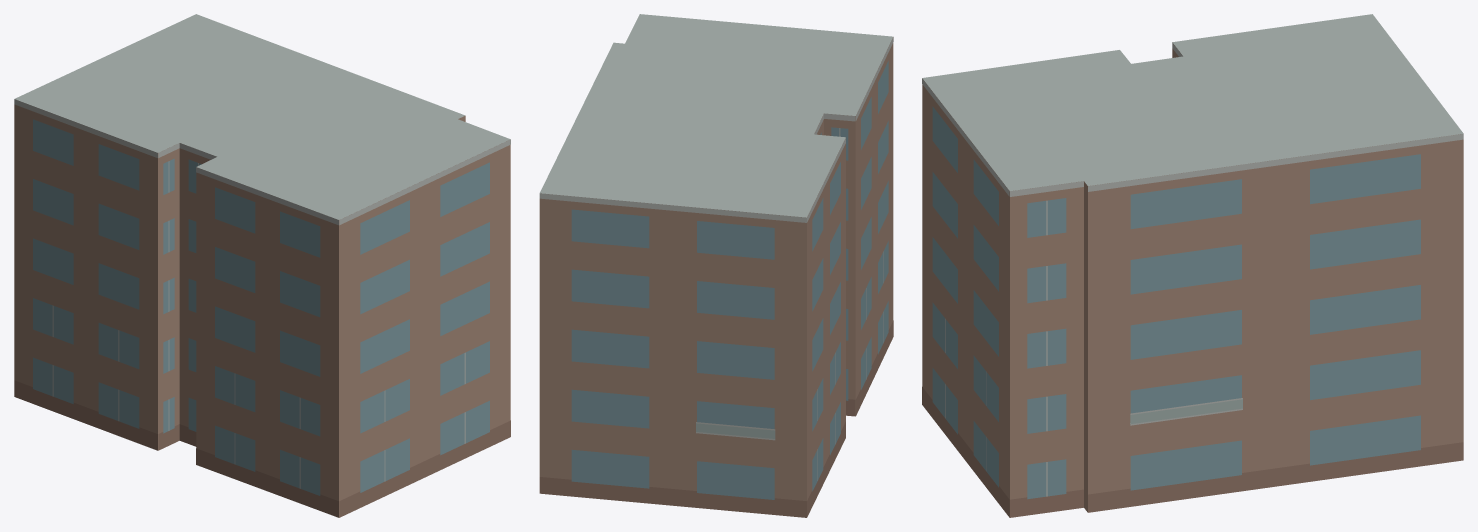
Rendered from survey-upis-32663820.glb.
3 views of the same model, side by side, from view 1: azimuth 30°, elevation 25°; view 2: azimuth 150°, elevation 25°; view 3: azimuth 270°, elevation 25° (orthographic). The views are drawn at different scales.
Parts seen in each view (by area): view 1: survey-upis-32663820.tmp; view 2: survey-upis-32663820.tmp; view 3: survey-upis-32663820.tmp.
Boxes of the visible parts, box(x1,y1,x2,y2) form: survey-upis-32663820.tmp: box(14, 14, 510, 517); survey-upis-32663820.tmp: box(539, 14, 893, 517); survey-upis-32663820.tmp: box(922, 14, 1463, 517).
Bounding box in the file's own units: 15.76 × 13.54 × 20.36.
